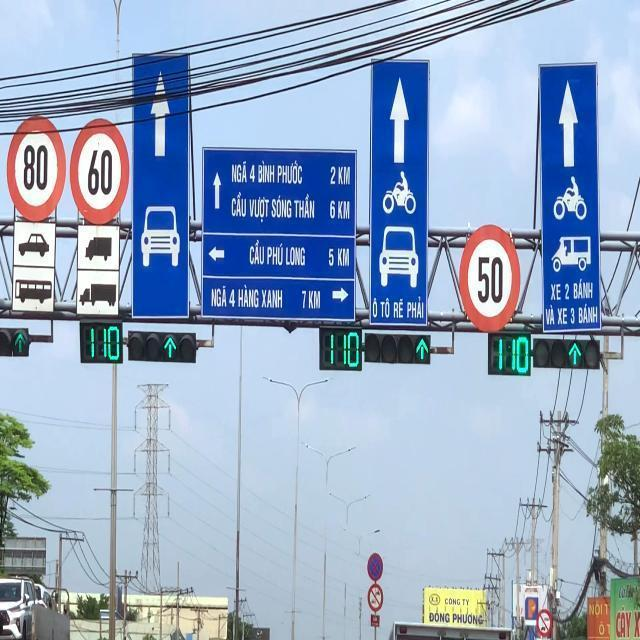127-toc-do-toi-da-50: (456, 224, 524, 332)
127-toc-do-toi-da-60: (70, 120, 130, 224)
127-toc-do-toi-da-80: (6, 116, 66, 220)
